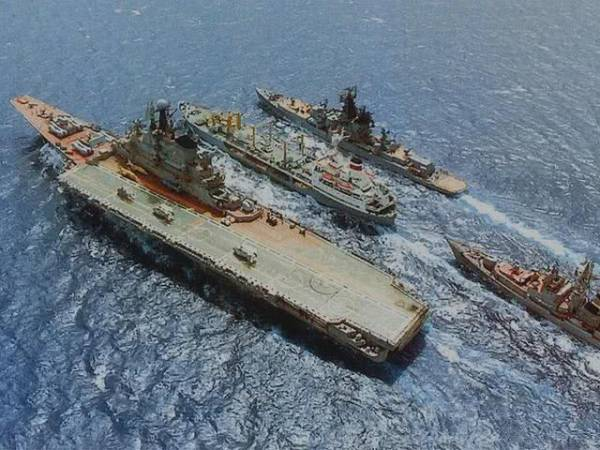warship: (10, 91, 439, 367), (174, 90, 400, 227), (254, 82, 467, 199), (442, 228, 600, 341)
